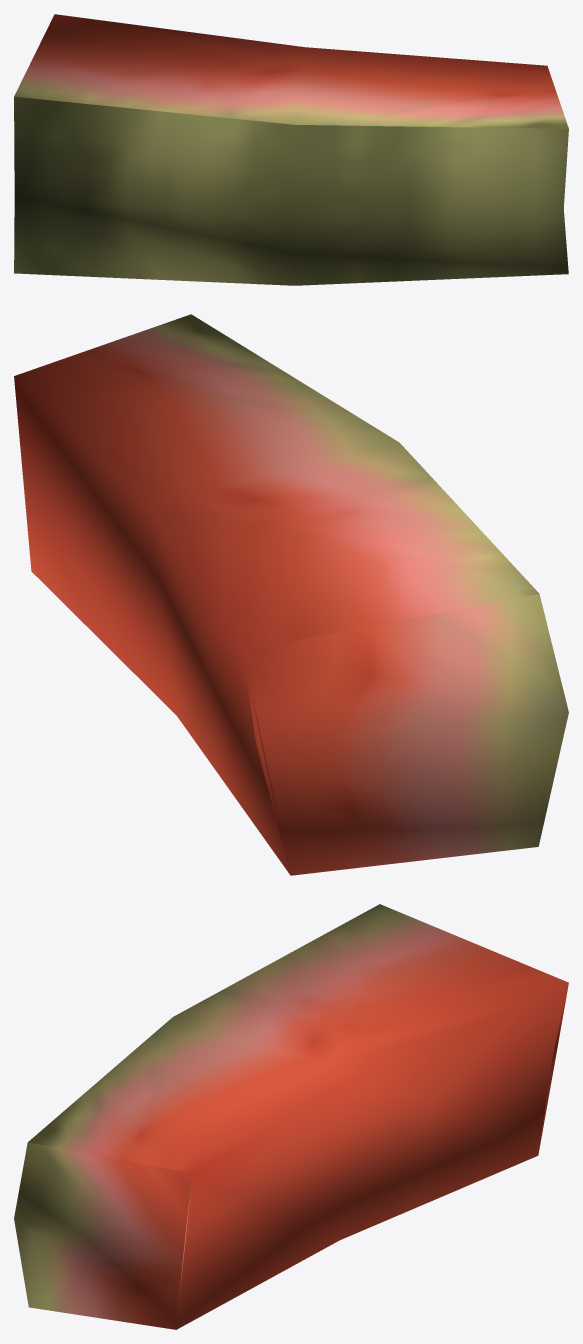
File: Piece melon B.glb
The picture shows the model from 3 angles, top to bottom: view 1: azimuth 30°, elevation 25°; view 2: azimuth 150°, elevation 25°; view 3: azimuth 270°, elevation 25°; orthographic projection. The views are drawn at different scales.
Parts seen in each view (by area): view 1: Piece melon B; view 2: Piece melon B; view 3: Piece melon B.
Boxes of the visible parts, left/top/right/bottom form: Piece melon B: left=14, top=14, right=568, bottom=285; Piece melon B: left=14, top=314, right=568, bottom=875; Piece melon B: left=14, top=904, right=568, bottom=1329.
Size of the model in its own units: 0.3041 by 0.1117 by 0.2805.
Materials: 1 (1 with a texture image).
